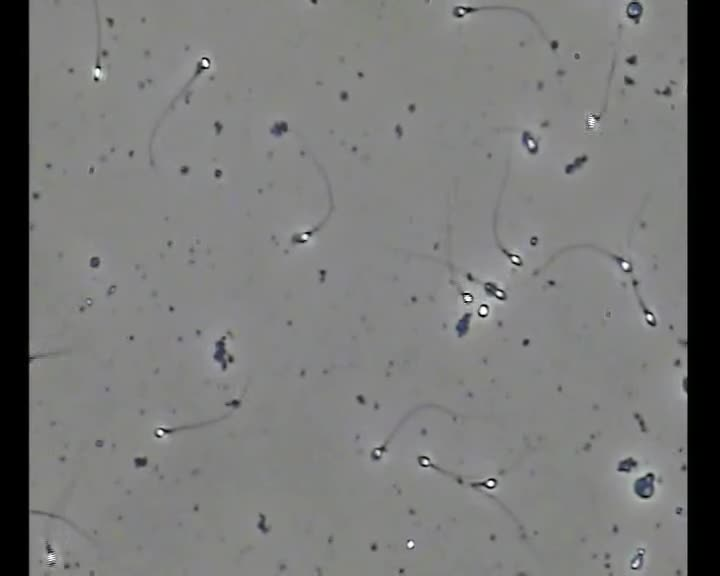spermhead: (521, 130, 538, 154), (626, 0, 643, 22), (451, 5, 473, 19), (292, 230, 311, 244), (585, 113, 600, 130), (92, 64, 104, 83), (616, 257, 631, 272), (371, 444, 385, 460), (644, 308, 656, 326), (197, 56, 211, 71), (153, 426, 170, 438), (507, 253, 522, 266), (482, 477, 497, 489), (417, 455, 431, 467), (477, 304, 489, 317), (461, 291, 473, 303)
